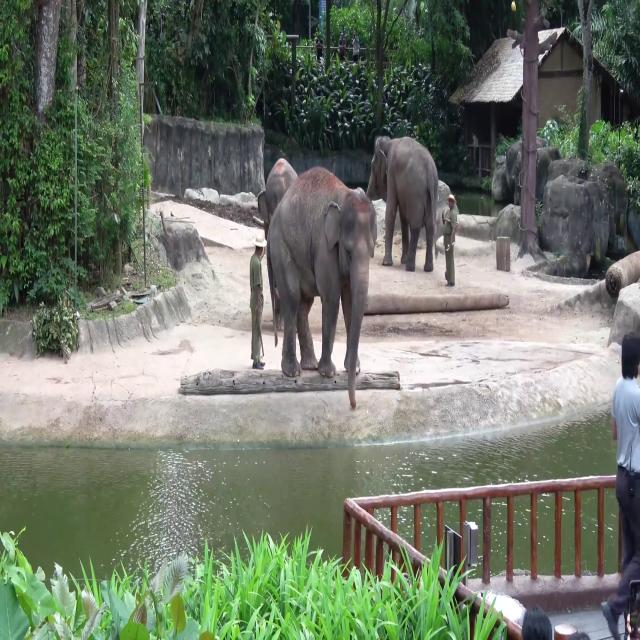Elephant: (266, 165, 378, 409), (366, 135, 438, 272), (257, 158, 299, 346)
person: (601, 332, 640, 639), (249, 229, 267, 369), (442, 193, 459, 286), (352, 31, 360, 63)
